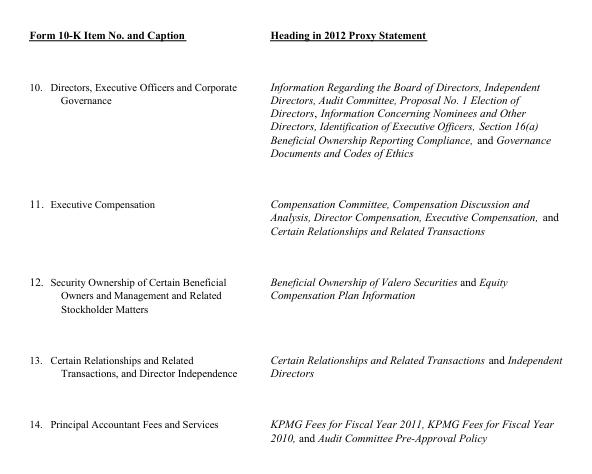table: (28, 28, 561, 443)
table column: (252, 28, 561, 443), (46, 28, 252, 443), (28, 28, 46, 443)
table column header: (28, 28, 561, 177)
table row: (28, 60, 561, 177), (28, 177, 561, 255), (28, 255, 561, 333), (28, 333, 561, 397), (28, 397, 561, 443), (28, 28, 561, 60)
table spanning cell: (252, 28, 561, 177), (28, 28, 252, 60)
